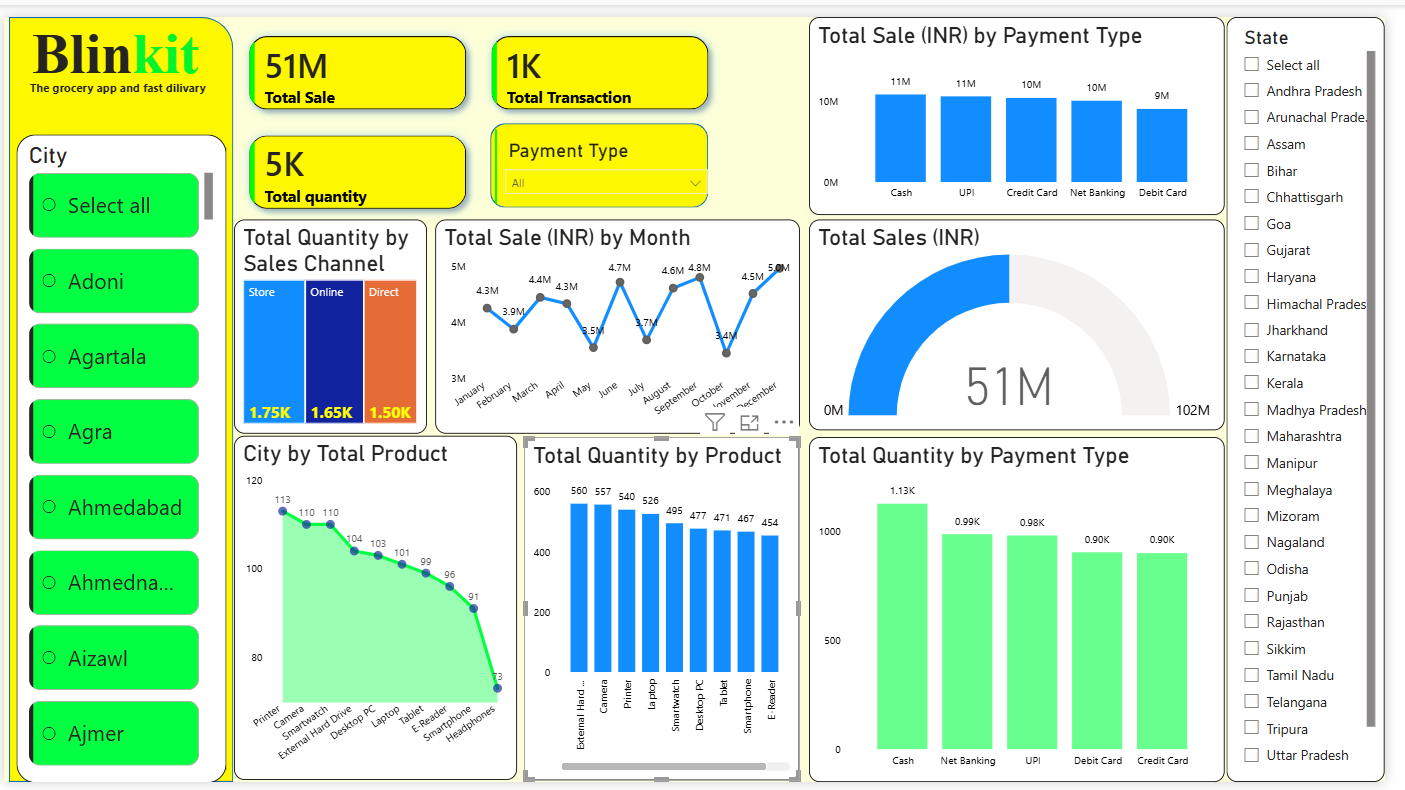

The page's visual inventory and layout, read from the dashboard file:
{"tool":"powerbi","page":{"name":" Blinkit Dashboard","canvas":[1300,720],"ordinal":0},"visuals":[{"type":"clusteredColumnChart","fields":{"Category":["TechyStore Sales_Data.Payment Type"],"Y":["Sum(TechyStore Sales_Data.Quantity)"]},"box":[757.5,395,391.2,325],"z":0},{"type":"shape","box":[5,0,211.1,720],"z":1000},{"type":"actionButton","box":[74.8,244.1,100.1,39.6],"z":2000},{"type":"textbox","box":[0,0,214.4,86.6],"z":3000},{"type":"textbox","box":[0,54.6,214.4,32],"z":4000},{"type":"actionButton","box":[24.7,132,100,40.2],"z":5000},{"type":"cardVisual","fields":{"Data":["Table.Total Sale","Count(TechyStore Sales_Data.Transaction ID)","TechyStore Sales_Data.Total quantity"]},"box":[214.3,1,467.3,198],"z":6000},{"type":"shape","box":[458.2,100,205.1,79.6],"z":7000},{"type":"slicer","fields":{"Values":["TechyStore Sales_Data.Payment Type"]},"box":[467.1,110.4,205,60],"z":8000},{"type":"shape","box":[455,105.4,15.4,69.6],"z":9000},{"type":"columnChart","fields":{"Category":["TechyStore Sales_Data.Product"],"Y":["Sum(TechyStore Sales_Data.Quantity)"]},"box":[489.4,395.7,259.6,323.4],"z":10000},{"type":"stackedAreaChart","fields":{"Category":["TechyStore Sales_Data.Product"],"Y":["CountNonNull(TechyStore Sales_Data.City)"]},"box":[216.2,394.6,266.2,324.3],"z":11000},{"type":"treemap","fields":{"Group":["TechyStore Sales_Data.Sales Channel"],"Values":["Sum(TechyStore Sales_Data.Quantity)"]},"box":[216.2,190,181.2,201.2],"z":12000},{"type":"columnChart","fields":{"Category":["TechyStore Sales_Data.Payment Type"],"Y":["Sum(TechyStore Sales_Data.Total Sale (INR))"]},"box":[757.5,0,391.5,186.5],"z":13000},{"type":"advancedSlicerVisual","fields":{"Values":["TechyStore Sales_Data.City"]},"box":[12.2,110,197.2,610],"z":14000},{"type":"gauge","fields":{"Y":["Sum(TechyStore Sales_Data.Total Sale (INR))"]},"box":[757.5,190,391.2,198.8],"z":15000},{"type":"lineChart","fields":{"Category":["TechyStore Sales_Data.Sales Date.Variation.Date Hierarchy.Month"],"Y":["Sum(TechyStore Sales_Data.Total Sale (INR))"]},"box":[405.4,190.5,343.2,201.4],"z":16000},{"type":"slicer","fields":{"Values":["TechyStore Sales_Data.State"]},"box":[1151.1,0,148.9,720],"z":17001}]}

Visuals, with their boxes in screenshot pixels (x1, y1, x2, y2), scaled from the page's 1300x720 canvas onto the 1405x790 screenshot:
clusteredColumnChart - TechyStore Sales_Data.Payment Type x Sum(TechyStore Sales_Data.Quantity): select_region(819, 433, 1241, 789)
shape: select_region(5, 0, 234, 789)
actionButton: select_region(81, 268, 189, 311)
textbox: select_region(0, 0, 232, 95)
textbox: select_region(0, 60, 232, 95)
actionButton: select_region(27, 145, 135, 189)
cardVisual - Table.Total Sale x Count(TechyStore Sales_Data.Transaction ID): select_region(232, 1, 737, 218)
shape: select_region(495, 110, 717, 197)
slicer - TechyStore Sales_Data.Payment Type: select_region(505, 121, 726, 187)
shape: select_region(492, 116, 508, 192)
columnChart - TechyStore Sales_Data.Product x Sum(TechyStore Sales_Data.Quantity): select_region(529, 434, 809, 789)
stackedAreaChart - TechyStore Sales_Data.Product x CountNonNull(TechyStore Sales_Data.City): select_region(234, 433, 521, 789)
treemap - TechyStore Sales_Data.Sales Channel x Sum(TechyStore Sales_Data.Quantity): select_region(234, 208, 429, 429)
columnChart - TechyStore Sales_Data.Payment Type x Sum(TechyStore Sales_Data.Total Sale (INR)): select_region(819, 0, 1242, 205)
advancedSlicerVisual - TechyStore Sales_Data.City: select_region(13, 121, 226, 789)
gauge - Sum(TechyStore Sales_Data.Total Sale (INR)): select_region(819, 208, 1241, 427)
lineChart - TechyStore Sales_Data.Sales Date.Variation.Date Hierarchy.Month x Sum(TechyStore Sales_Data.Total Sale (INR)): select_region(438, 209, 809, 430)
slicer - TechyStore Sales_Data.State: select_region(1244, 0, 1404, 789)
